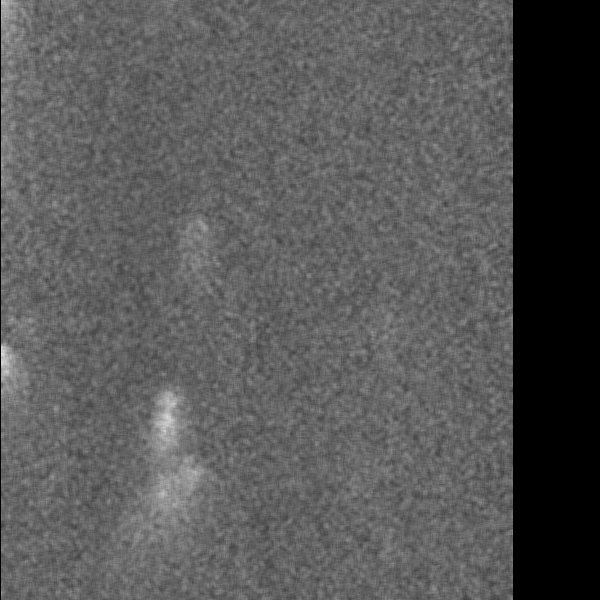spark: (148, 374, 182, 593)
